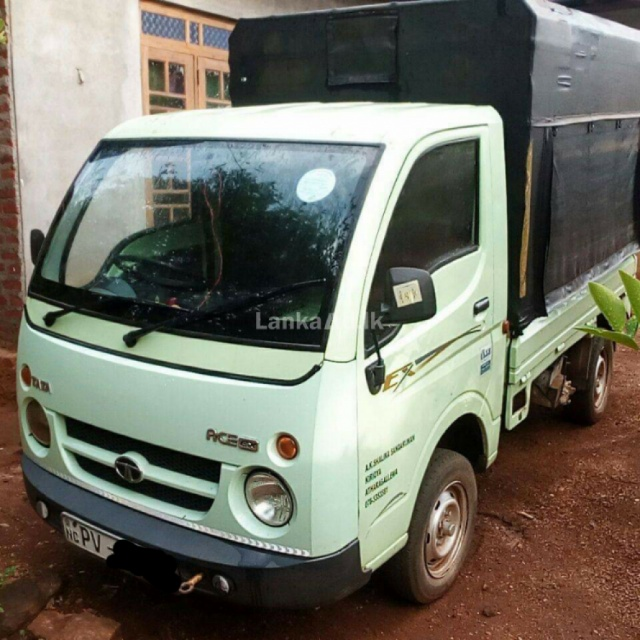Truck: (15, 1, 640, 614)
